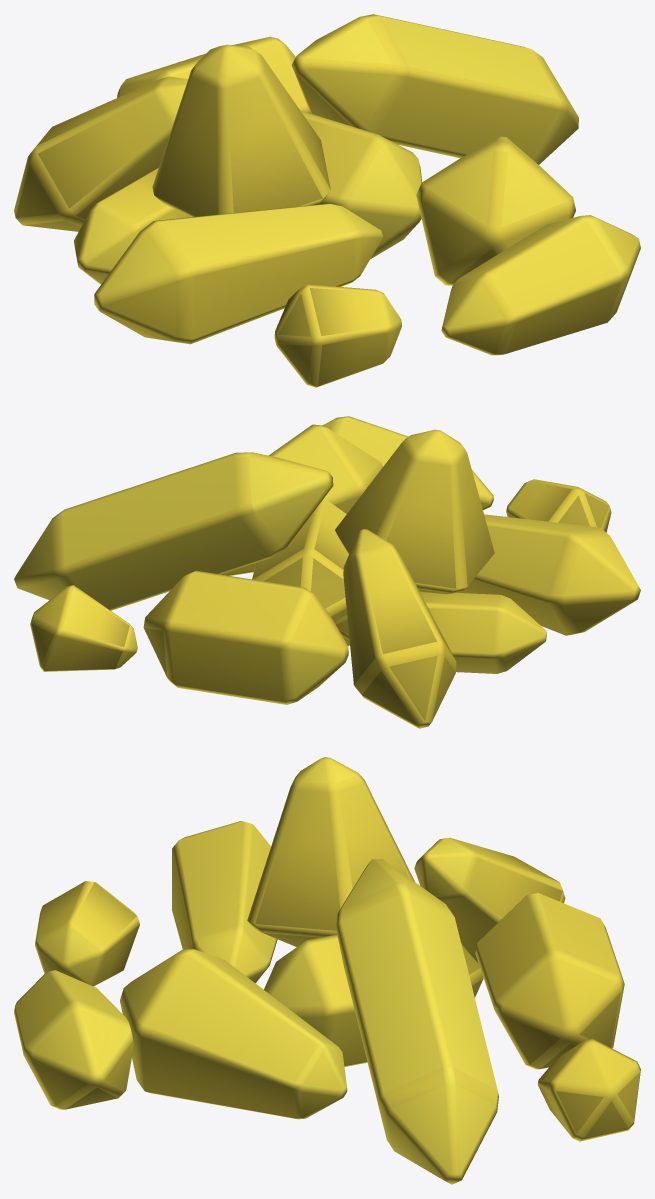
The model's file is christal_topaz_pile.fbx.
3 views of the same model, one above another, from view 1: azimuth 30°, elevation 25°; view 2: azimuth 150°, elevation 25°; view 3: azimuth 270°, elevation 25° (orthographic). The views are drawn at different scales.
Parts seen in each view (by area): view 1: christal_topaz_pile; view 2: christal_topaz_pile; view 3: christal_topaz_pile.
Part boxes in pixels (x1,y1,x2,y2): christal_topaz_pile: [14, 14, 640, 387]; christal_topaz_pile: [14, 416, 640, 728]; christal_topaz_pile: [14, 757, 640, 1184].
Size of the model in its own units: 182 by 69.99 by 169.
Materials: 1 (1 with a texture image).
